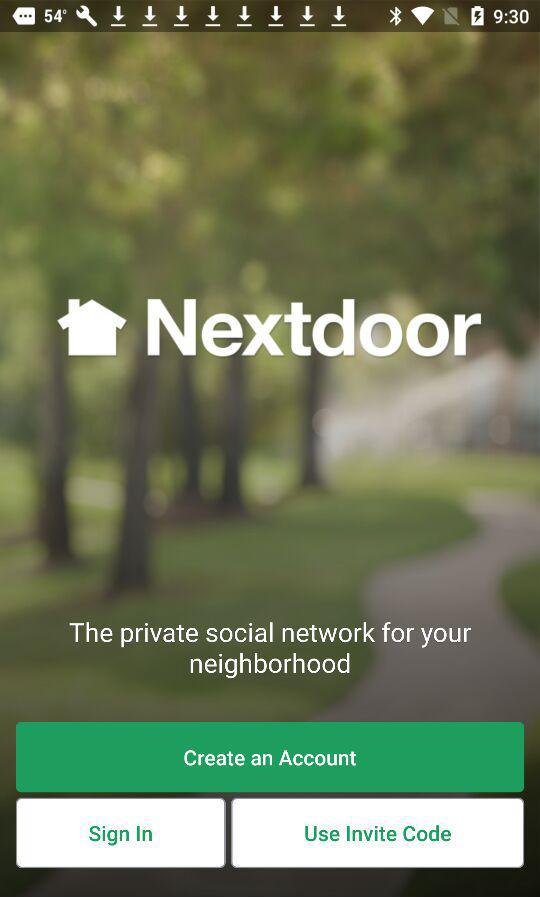BackgroundImage: (1, 33, 540, 897)
Icon: (57, 298, 128, 358)
Text: (69, 621, 473, 681), (146, 298, 483, 360)
TextButton: (16, 722, 524, 793), (231, 798, 525, 869), (16, 798, 227, 868)
UpperTaskBar: (1, 1, 540, 33)
